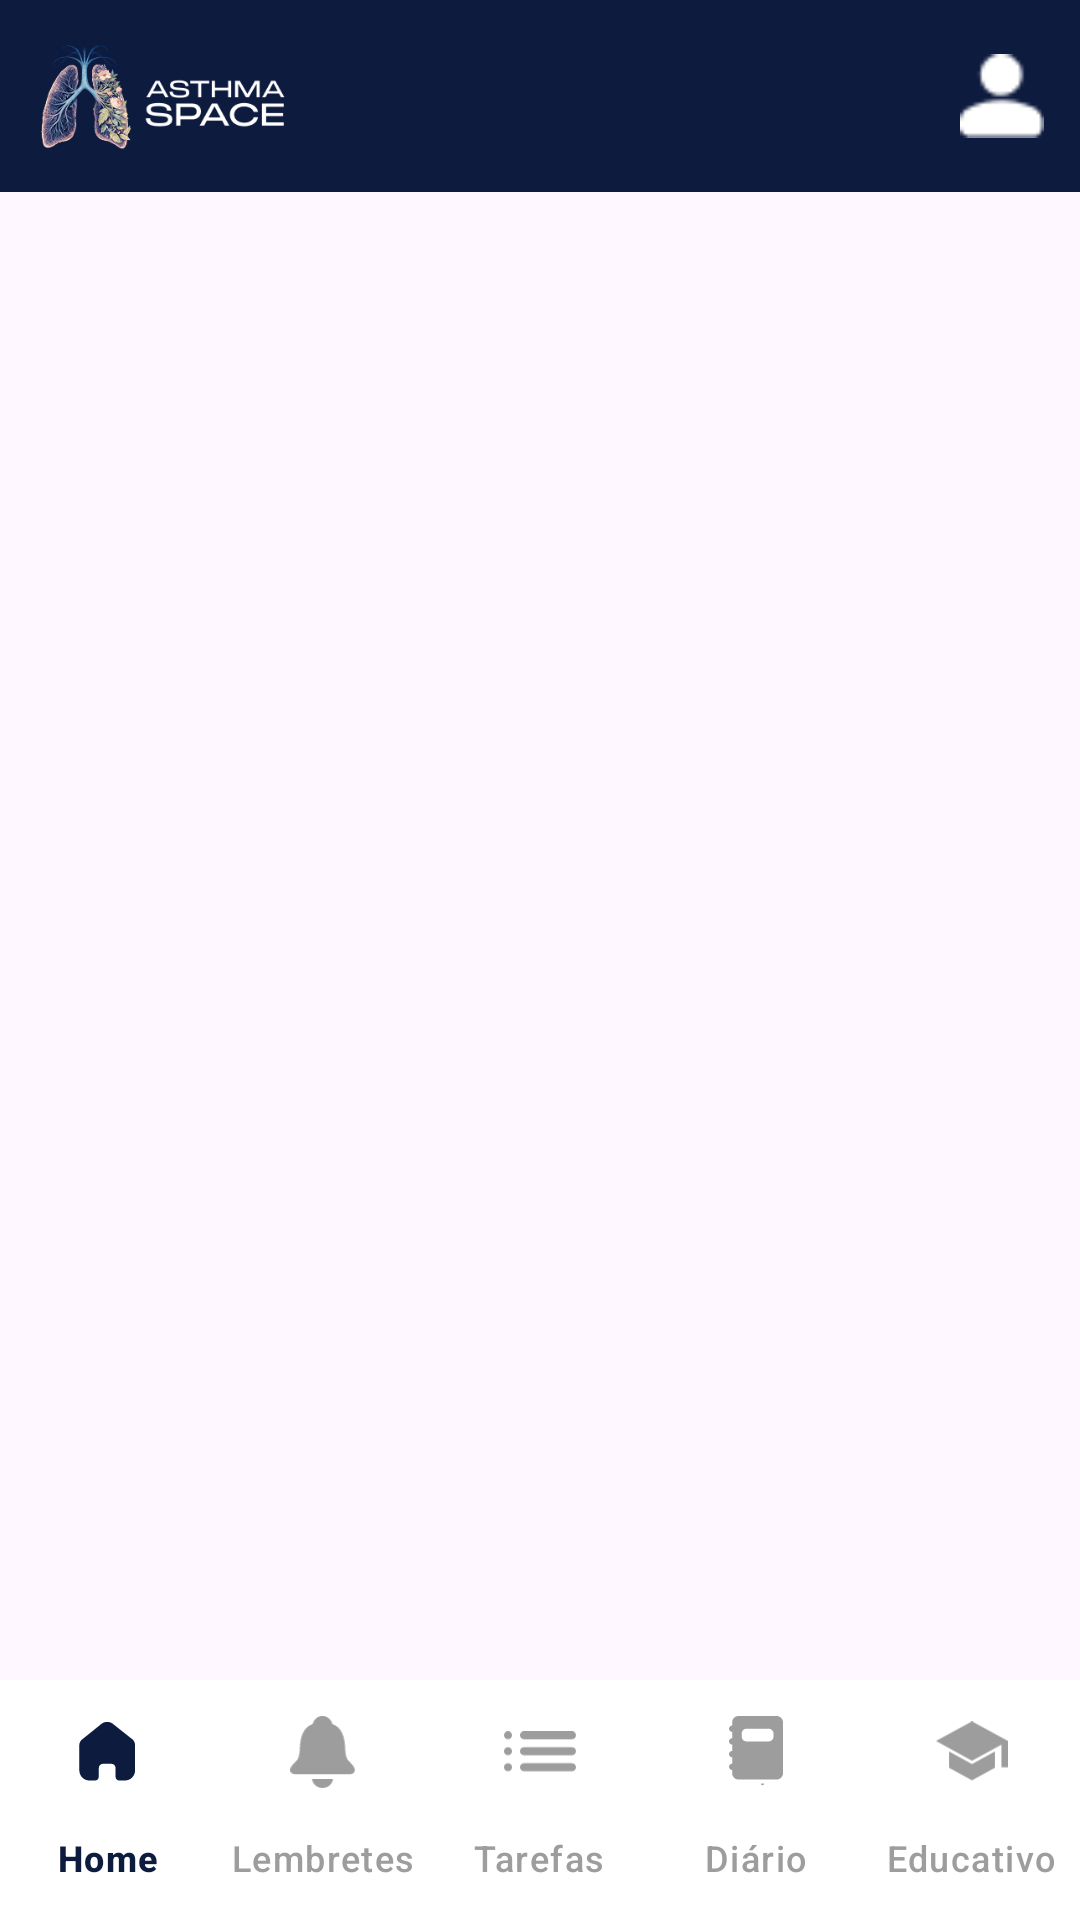

Icons on this 1080w x 1920h Android screen, each with its box as (x1, y1, x2, y2):
inf pessoais: (960, 54, 1044, 138)
